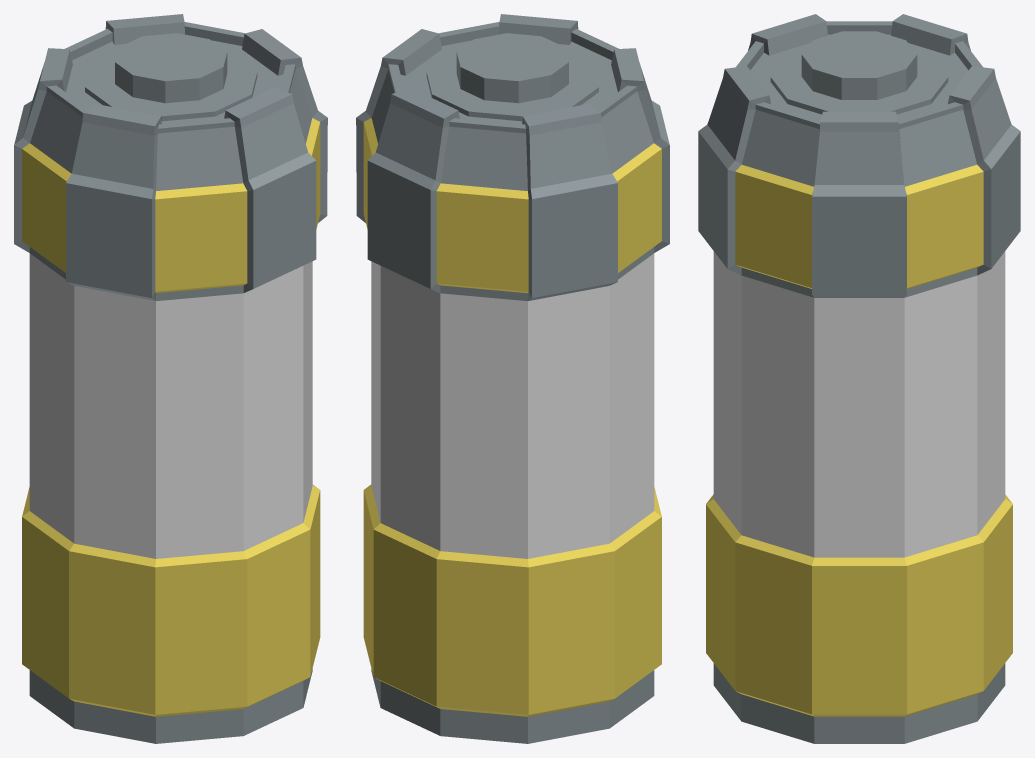
Rendered from battery_v2.fbx.
3 renders of one model, left to right at view 1: azimuth 30°, elevation 25°; view 2: azimuth 150°, elevation 25°; view 3: azimuth 270°, elevation 25°, orthographic.
Parts seen in each view (by area): view 1: Battery casing; view 2: Battery casing; view 3: Battery casing.
Part boxes in pixels (left/top/right/bottom): Battery casing: left=14, top=14, right=327, bottom=743; Battery casing: left=356, top=14, right=669, bottom=743; Battery casing: left=698, top=14, right=1020, bottom=743.
Bounding box in the file's own units: 20.02 × 45.31 × 21.
